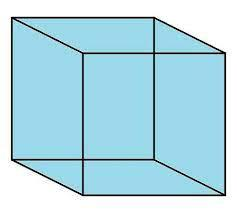cubos: (7, 11, 232, 201)
